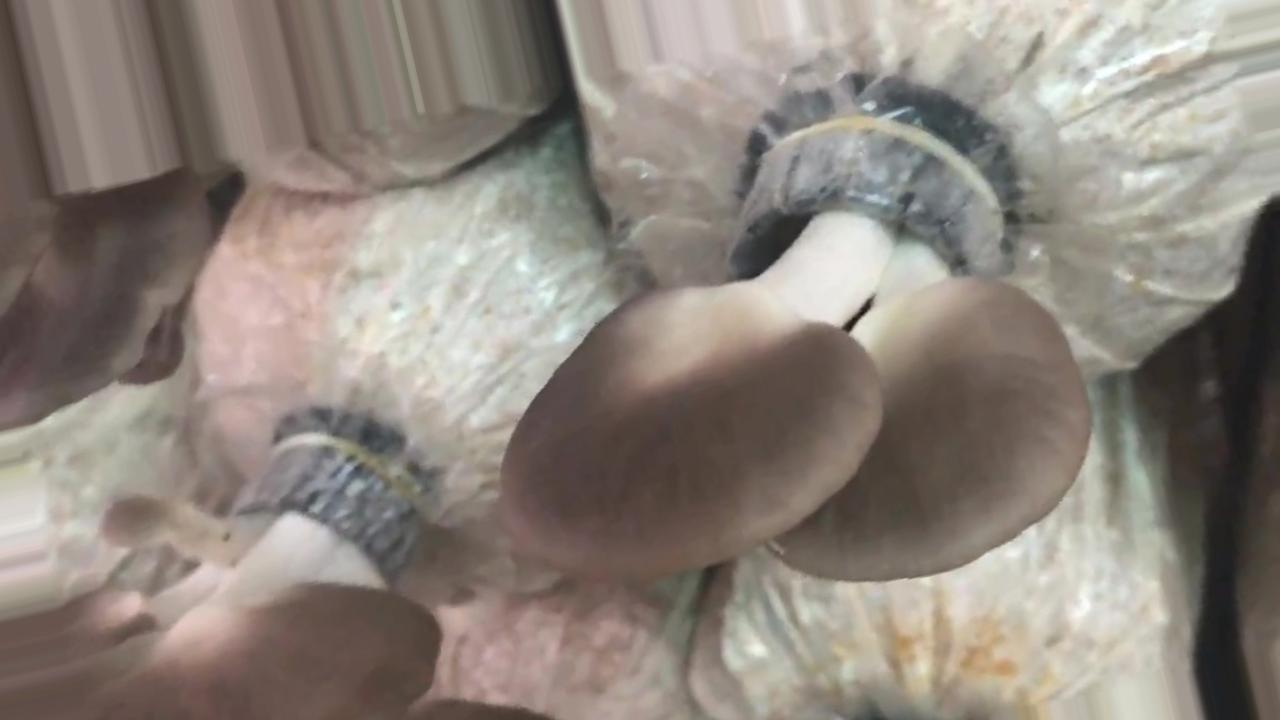nam: (505, 110, 1093, 585), (4, 435, 441, 720)
